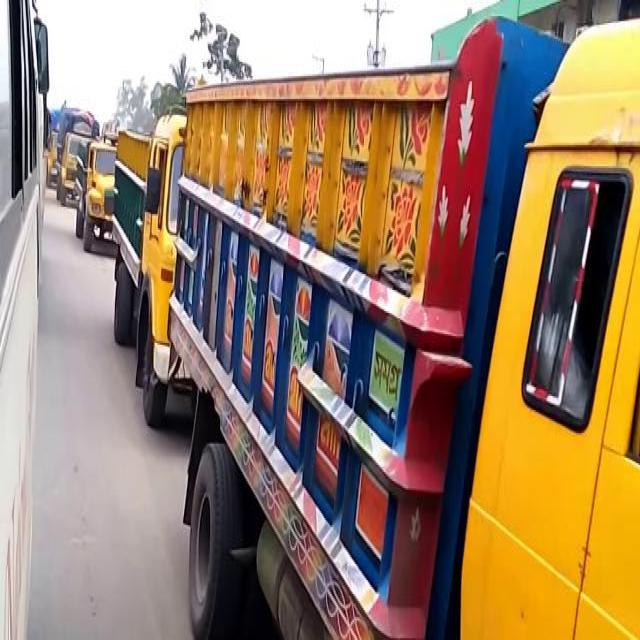bus: (0, 1, 44, 635)
truck: (167, 15, 638, 632), (109, 111, 189, 426), (75, 132, 117, 248), (57, 103, 99, 206)
